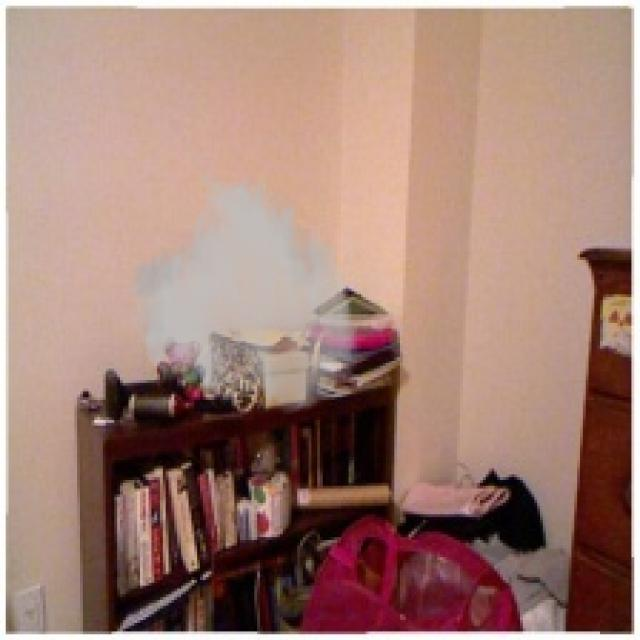smoke: (126, 166, 360, 417)
